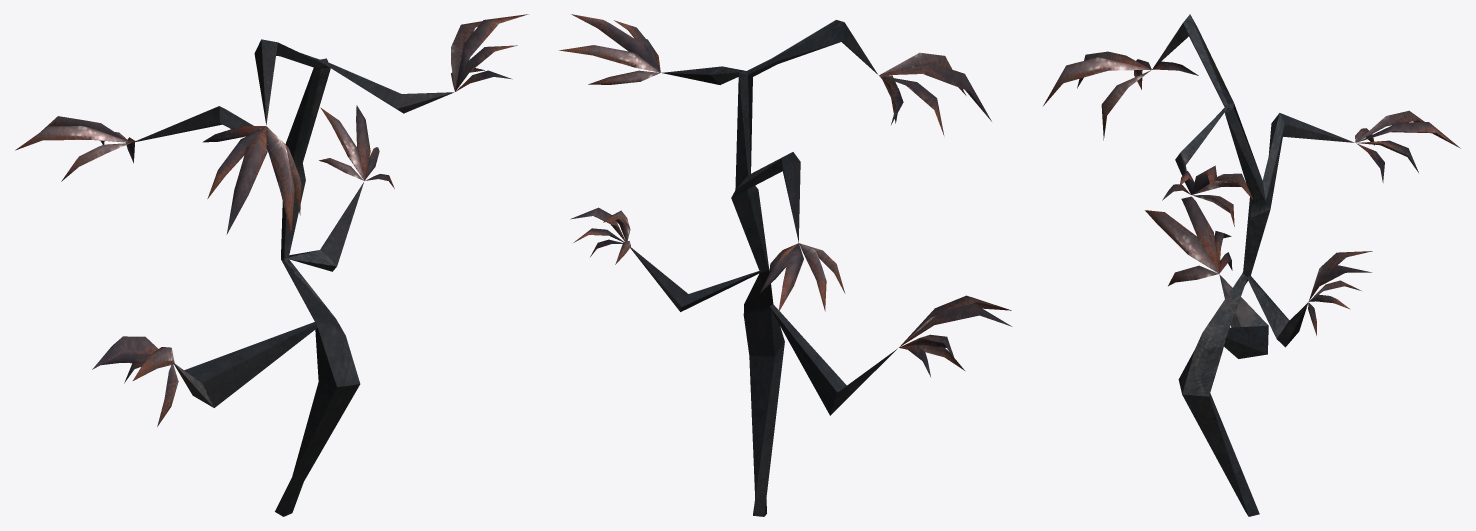
File: SM_Plant_1.fbx
The picture shows the model from 3 angles, left to right: view 1: azimuth 30°, elevation 25°; view 2: azimuth 150°, elevation 25°; view 3: azimuth 270°, elevation 25°; orthographic projection. The views are drawn at different scales.
Visible parts, largest first — view 1: polySurface4; view 2: polySurface4; view 3: polySurface4.
Part boxes in pixels (box(x1,y1,x2,y2)): polySurface4: box(15, 14, 528, 516); polySurface4: box(559, 14, 1012, 516); polySurface4: box(1043, 14, 1460, 516).
Bounding box in the file's own units: 62.38 × 67.24 × 53.84.
Materials: 1 (1 with a texture image).
